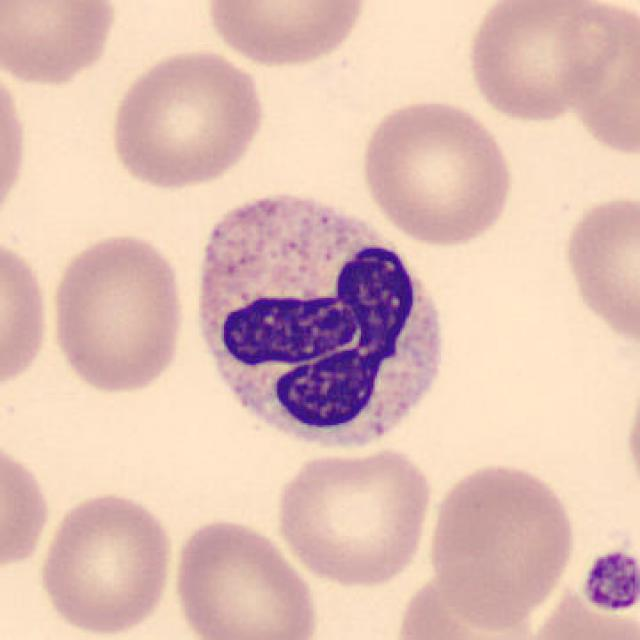Neutrophil: (183, 180, 455, 464)
Platelets: (578, 546, 640, 614)
RBC: (423, 457, 580, 628), (356, 95, 518, 249), (44, 229, 190, 399), (272, 440, 436, 590), (105, 44, 268, 192), (36, 487, 176, 638), (460, 0, 628, 125), (169, 515, 322, 640), (553, 2, 640, 162), (558, 189, 640, 349), (201, 0, 371, 71), (389, 564, 546, 638), (0, 0, 121, 90), (0, 230, 53, 398), (0, 433, 53, 580), (517, 582, 640, 640), (0, 56, 32, 235), (578, 546, 640, 620), (622, 366, 640, 509)
